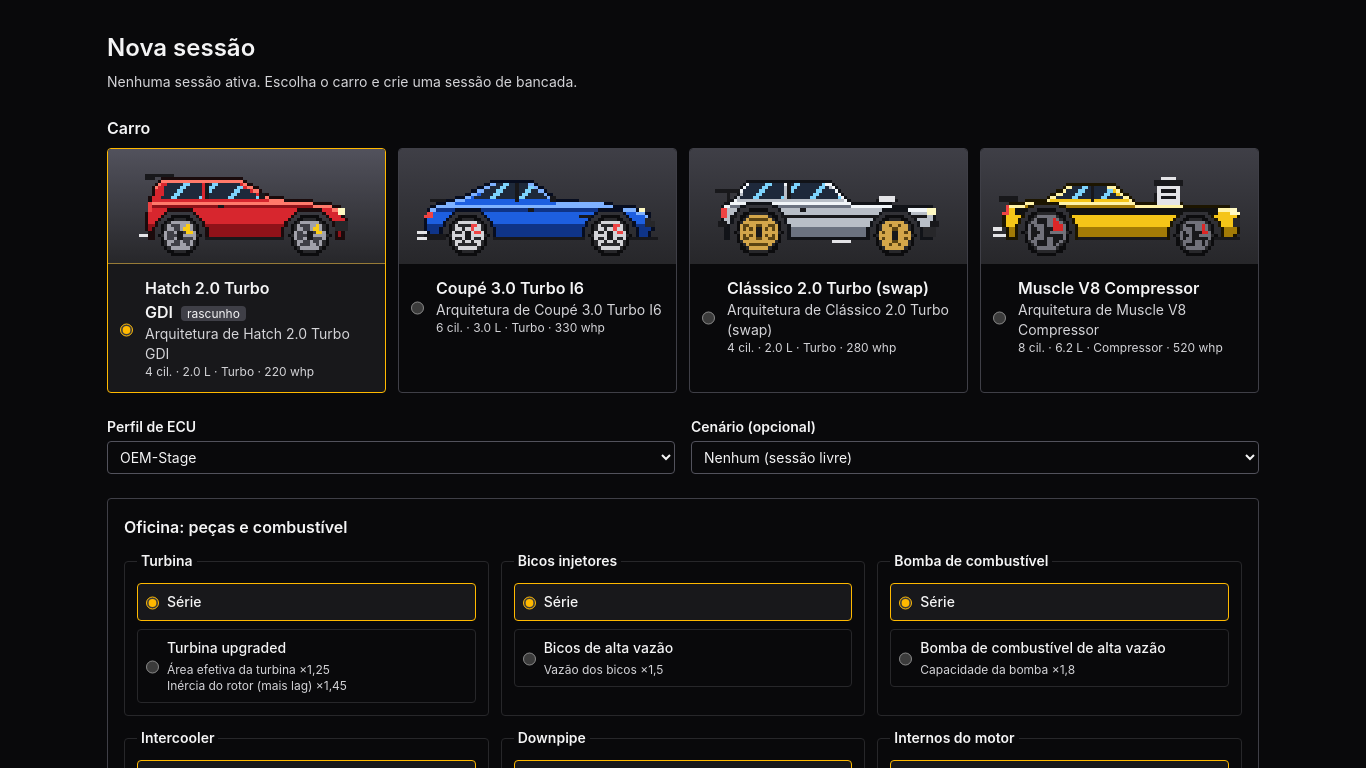
Test: HomePage com a oficina (002 RF-19) › com cenário a oficina fica de fora
Select "Stage 1 na ECU de série" in the dropdown labelled "Cenário (opcional)" at (975, 458), box x1=691 y1=441 x2=1259 y2=474
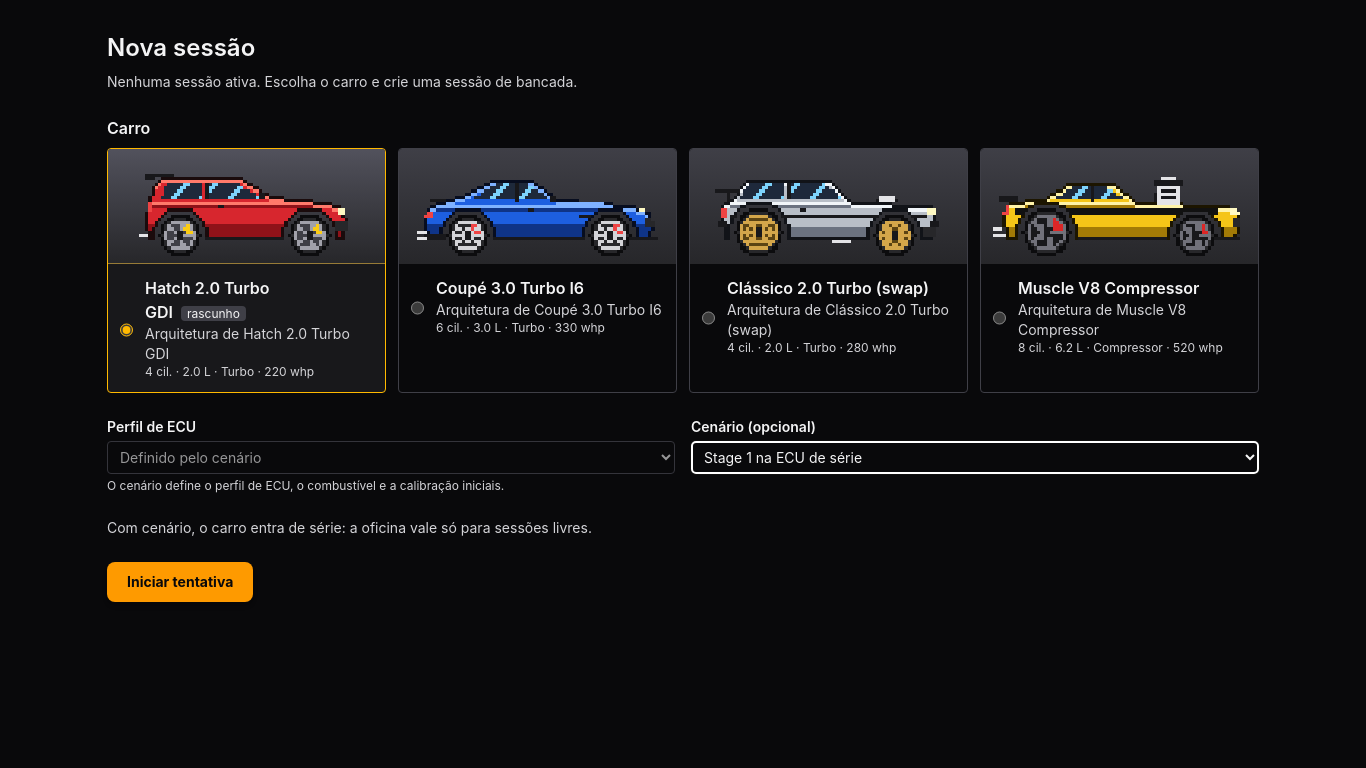
Now the text "Turbina" is gone
Now the text "a oficina vale só para sessões livres" is shown, box x1=107 y1=519 x2=592 y2=536
